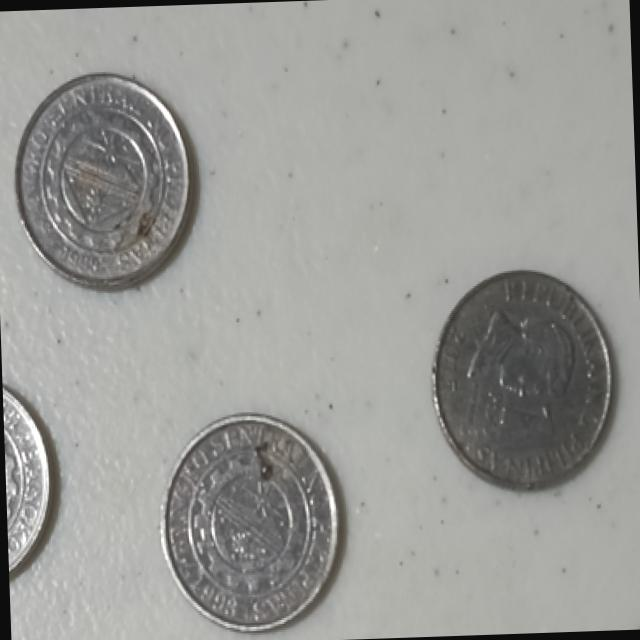1_peso: (161, 414, 337, 629), (433, 272, 611, 483), (15, 75, 187, 286)
